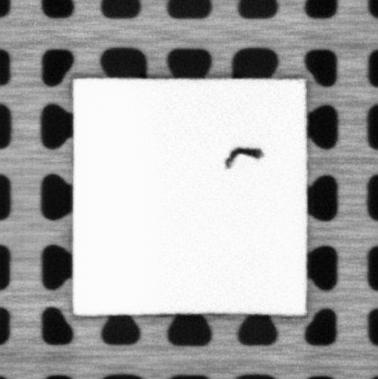DIE_INK: (223, 146, 264, 168)
